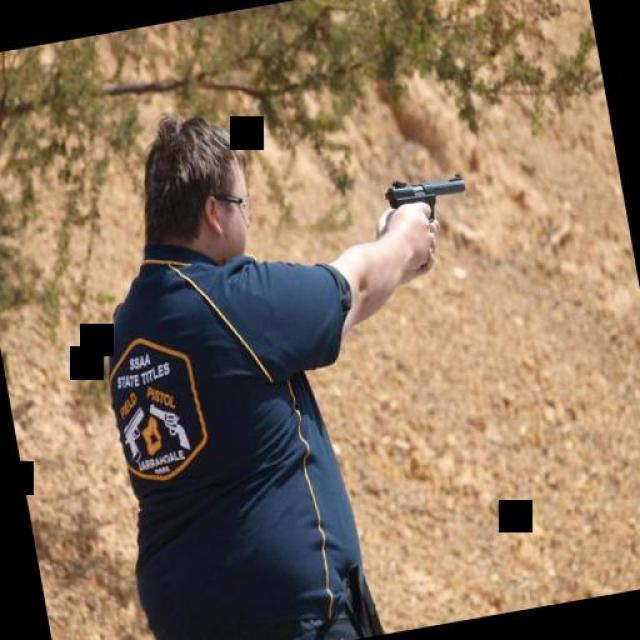gun: (378, 162, 473, 234)
